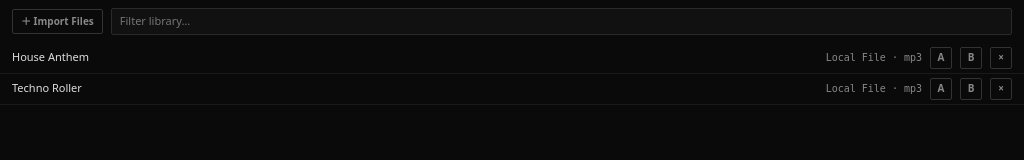
Test case: lists imported tracks and filters by title
Expected: the text "House Anthem" is shown, [12, 49, 89, 64]
In the field with placeholder "Filter library…": (561, 21) [111, 8, 1012, 34], type "techno"
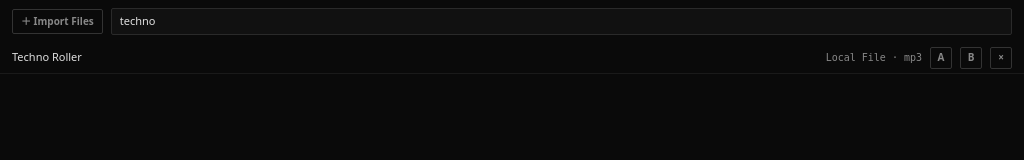
Expected: the text "Techno Roller" is shown, [12, 49, 82, 64]
Expected: the text "House Anthem" is gone
